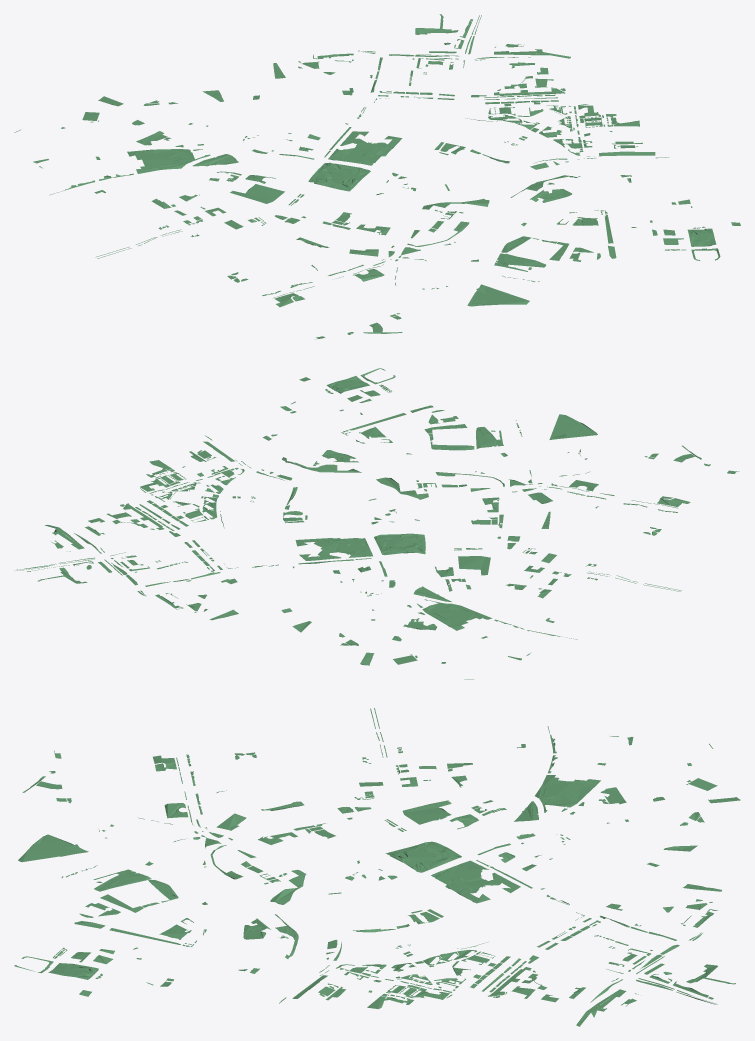
The model's file is green.glb.
3 views of the same model, one above another, from view 1: azimuth 30°, elevation 25°; view 2: azimuth 150°, elevation 25°; view 3: azimuth 270°, elevation 25° (orthographic). The views are drawn at different scales.
Parts seen in each view (by area): view 1: green; view 2: green; view 3: green.
Part boxes in pixels (x1,y1,x2,y2): green: [14, 14, 740, 339]; green: [14, 368, 739, 679]; green: [14, 708, 740, 1026].
Bounding box in the file's own units: 2692 × 35.82 × 2628.
